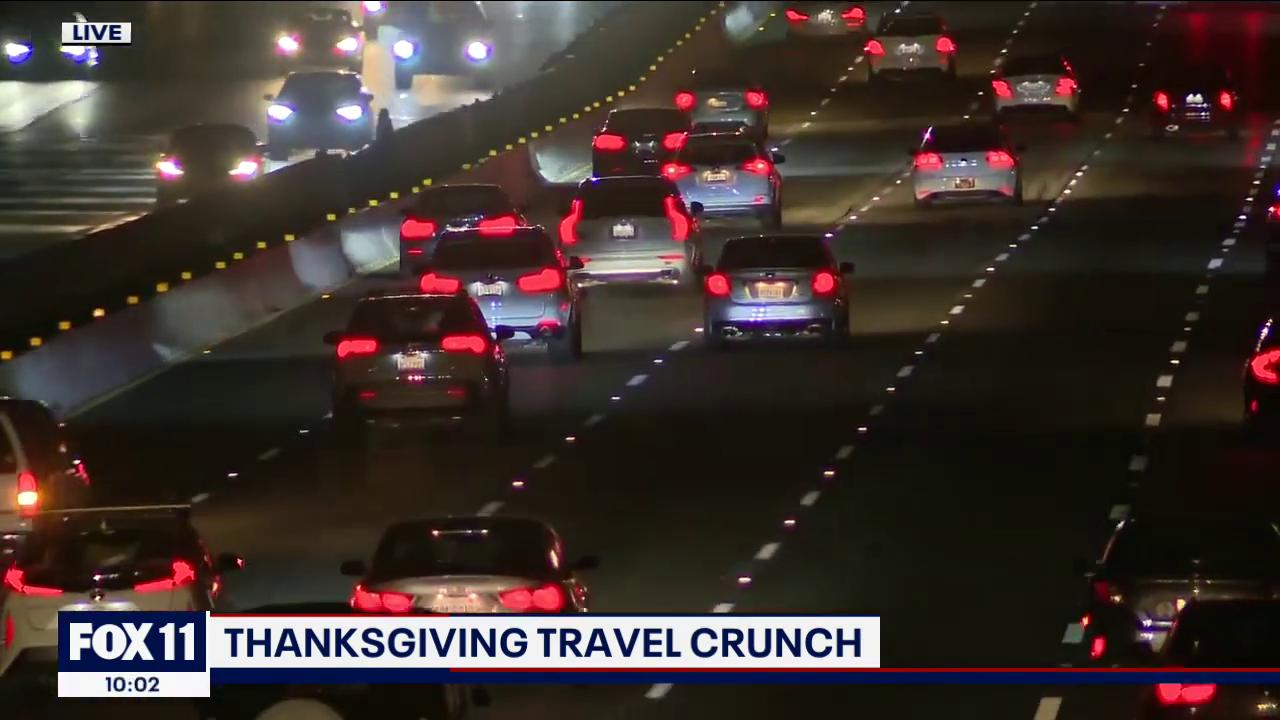car: (350, 516, 594, 622), (18, 504, 228, 624), (334, 288, 510, 414), (426, 226, 580, 348), (706, 228, 840, 346), (564, 178, 708, 286), (4, 394, 100, 520), (909, 120, 1031, 199), (396, 188, 526, 260), (860, 21, 968, 78), (991, 58, 1077, 108)
